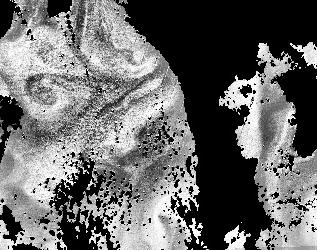CE: (13, 72, 74, 119)
